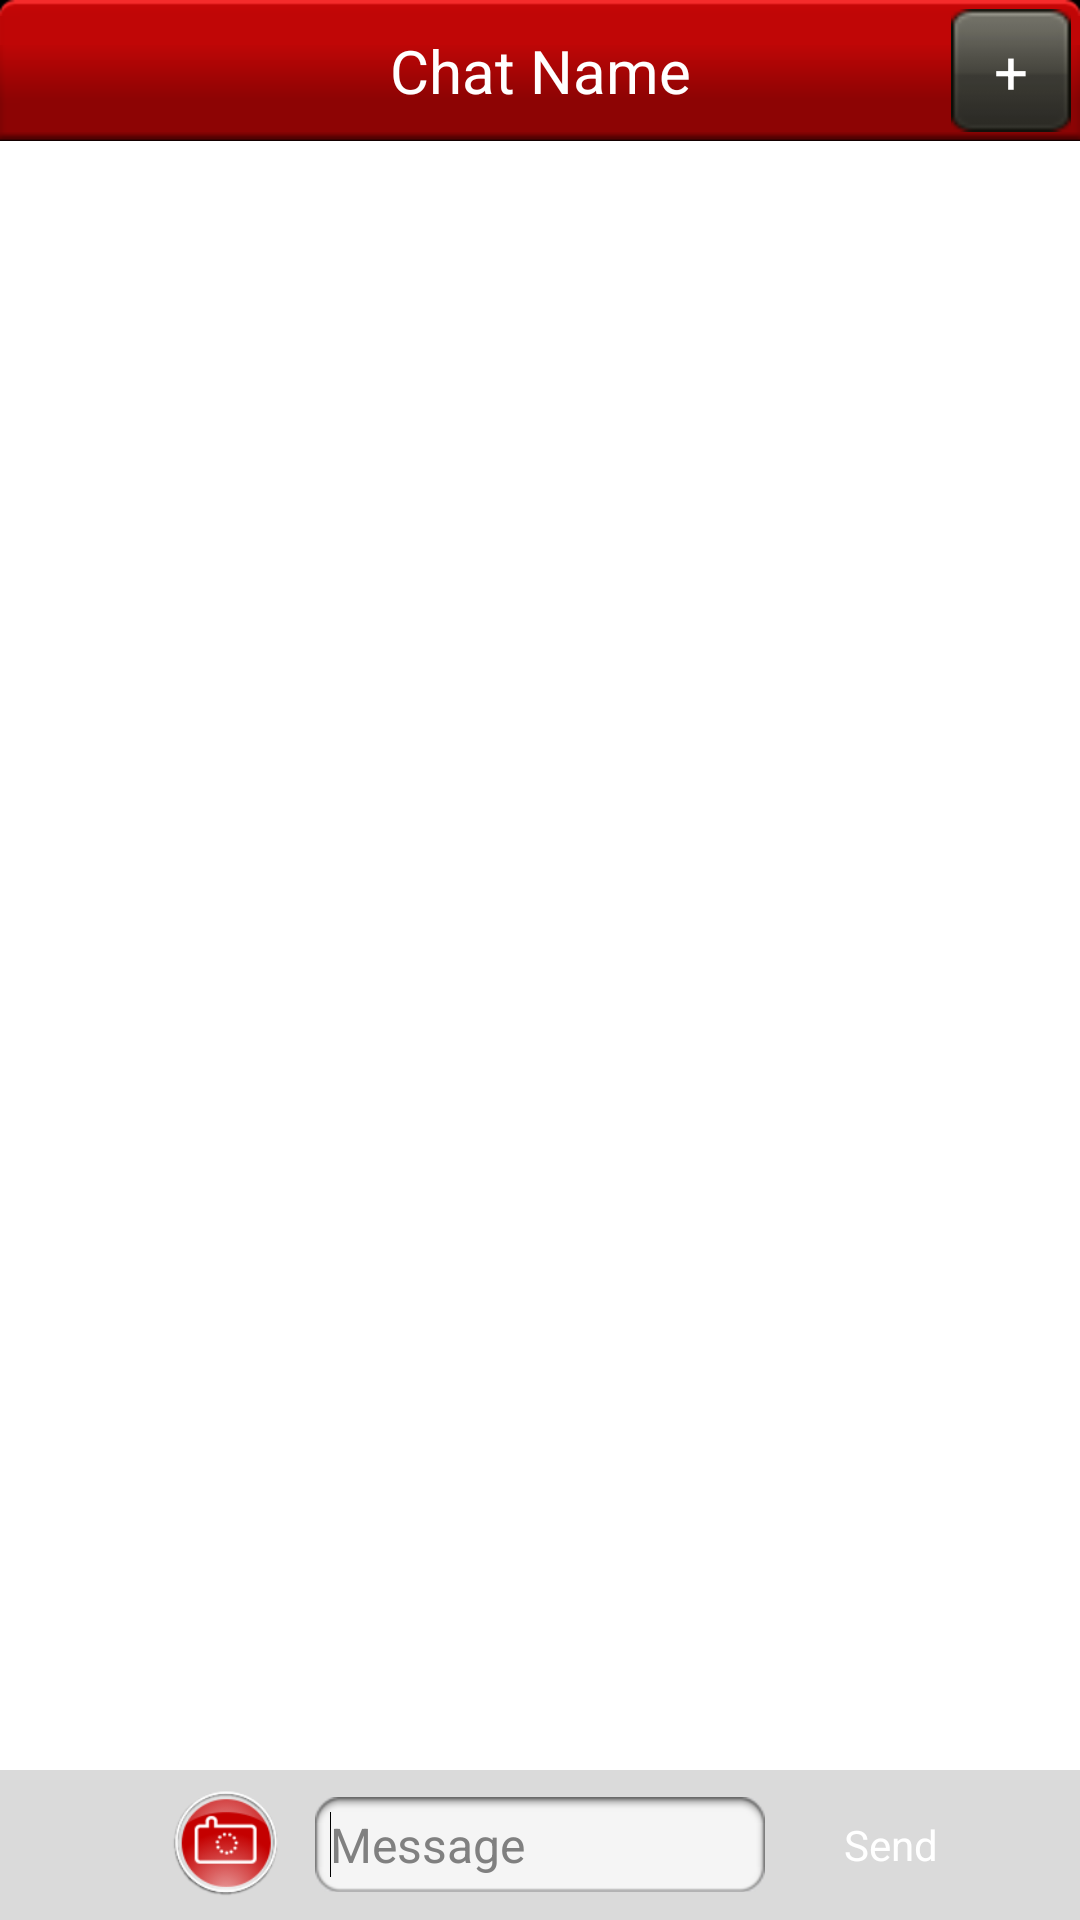

Icons on this 1080×1920 Android screen, each with the point to tap as [x,y]:
camera: [225,1843]
